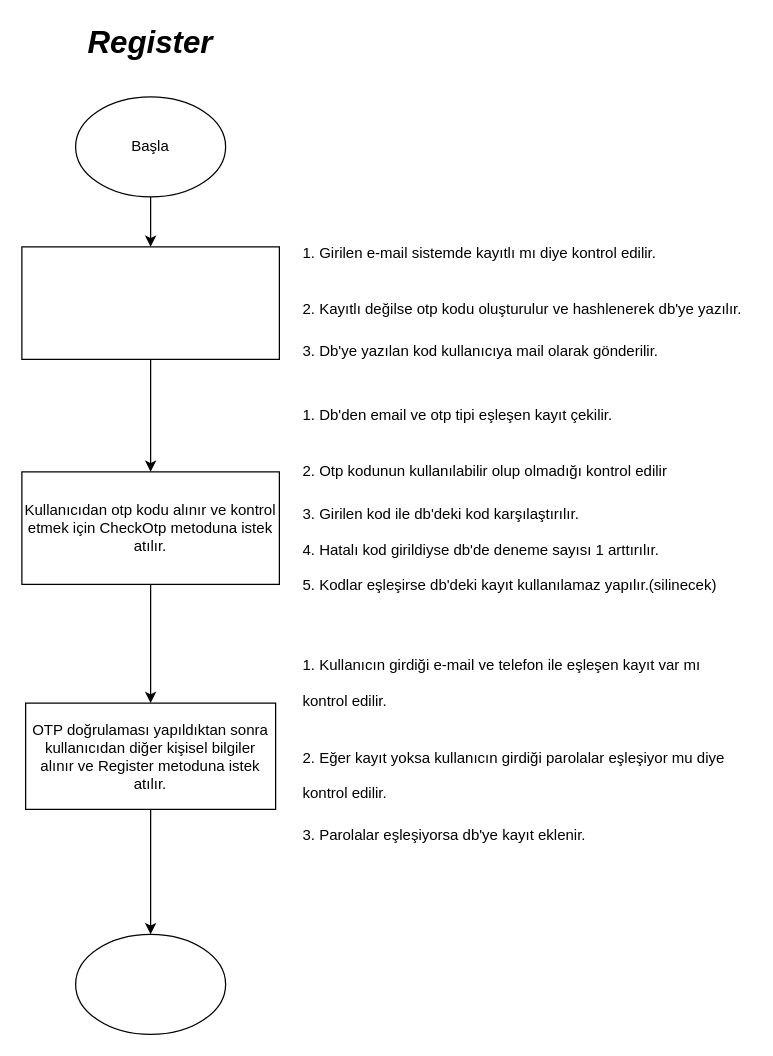
The diagram is 773 pixels wide and 1056 high, and some of its shapes have lost their labels. Each missing label, with the centre of its shape:
Bitiş: pixel 150 983
Kullanıcıdan e-mail bilgisi alınır ve SendOtp metoduna istek atılır.: pixel 150 302
